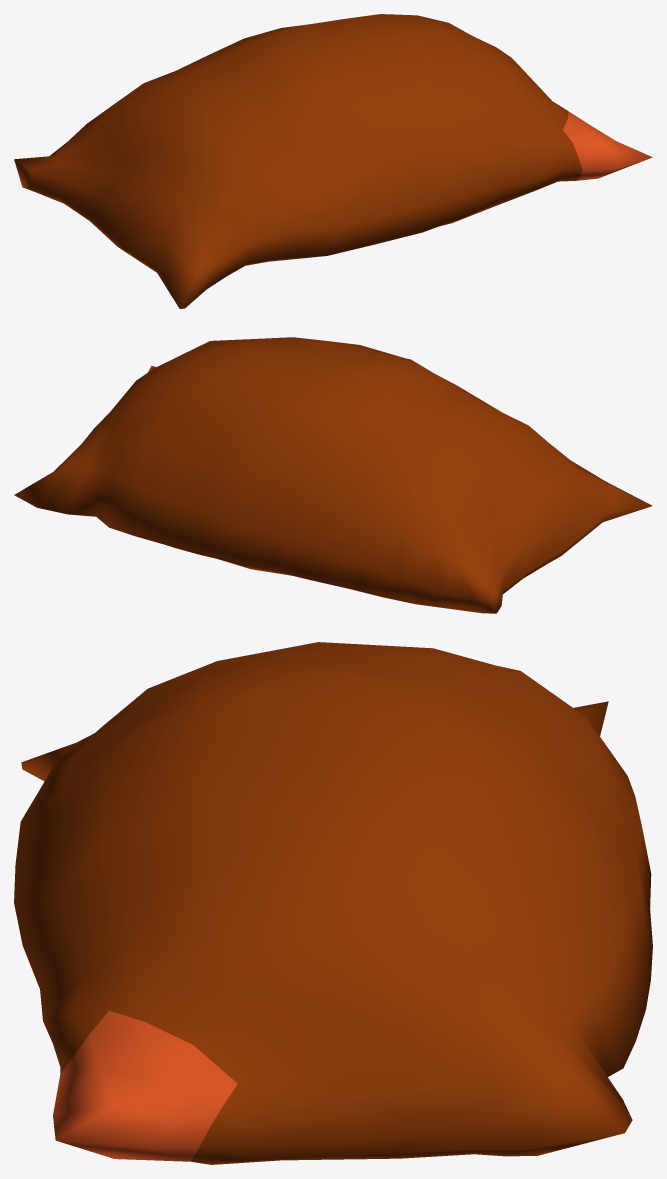
Rendered from winter_castle_item6.glb.
The picture shows the model from 3 angles, top to bottom: view 1: azimuth 30°, elevation 25°; view 2: azimuth 150°, elevation 25°; view 3: azimuth 270°, elevation 25°; orthographic projection. The views are drawn at different scales.
Visible parts, largest first — view 1: Item6_Medieval_0; view 2: Item6_Medieval_0; view 3: Item6_Medieval_0.
Part boxes in pixels (x1,y1,x2,y2): Item6_Medieval_0: (14, 14, 652, 308); Item6_Medieval_0: (14, 337, 652, 613); Item6_Medieval_0: (14, 642, 652, 1164).
Size of the model in its own units: 0.5765 by 0.1672 by 0.362.
Materials: 1 (1 with a texture image).
